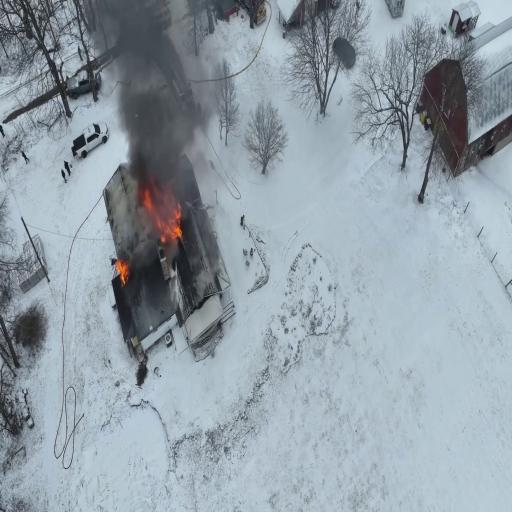fire: (143, 172, 180, 243), (114, 258, 133, 282)
